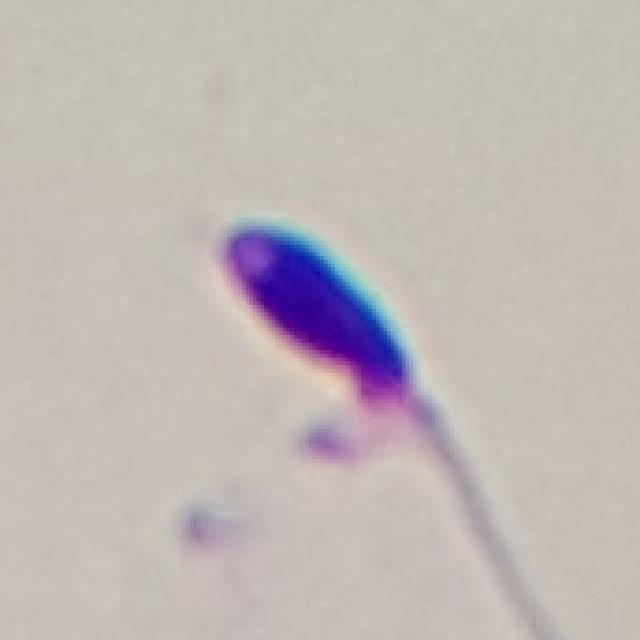abnormal sperm: (216, 215, 484, 519)
